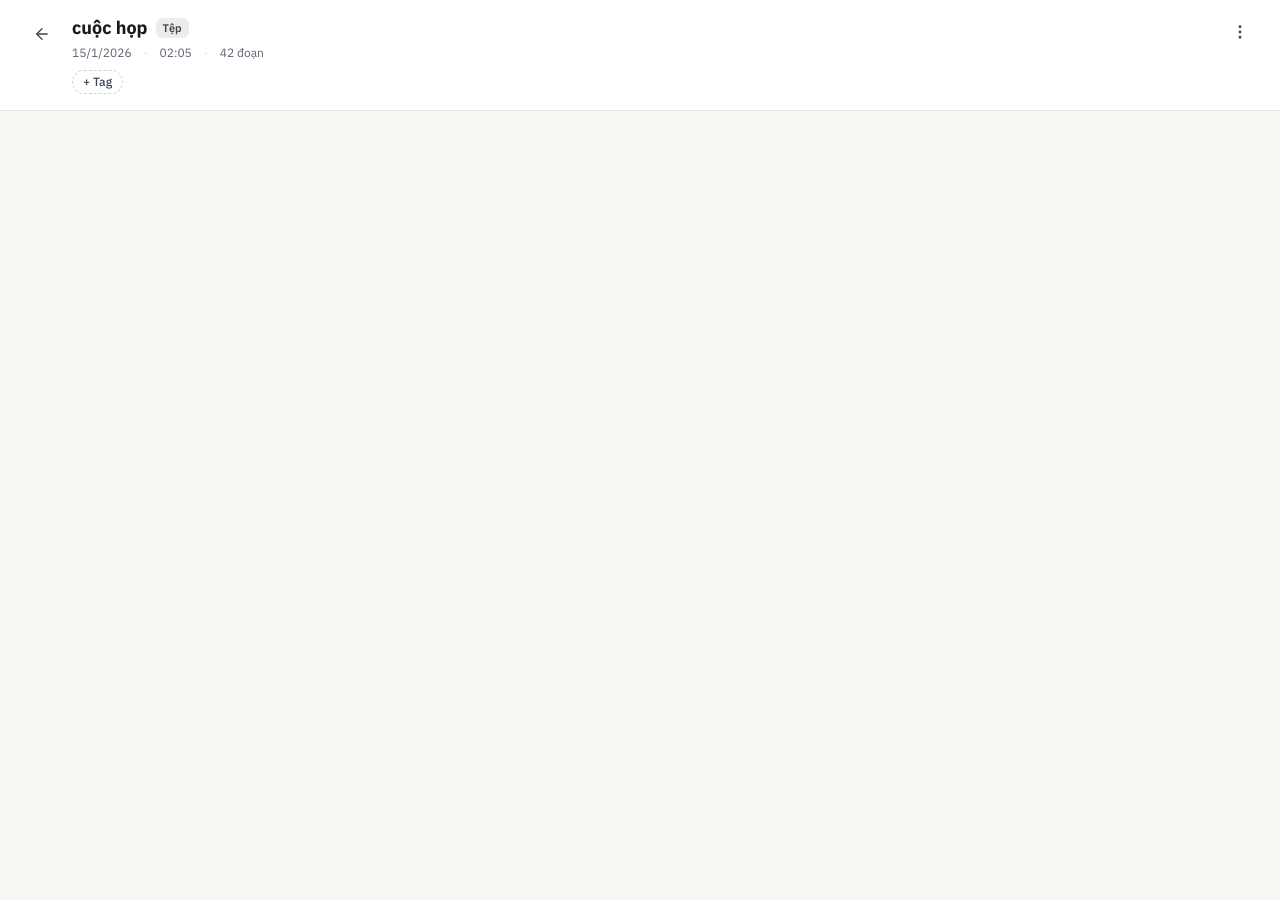
Test: SessionHeader › choosing Xoá from the menu opens the delete confirmation dialog
What coordinates should you click on to do the following:
click the button named "Thao tác khác"
I would click on:
 (1240, 32)
Its box is [1224,16,1256,48].
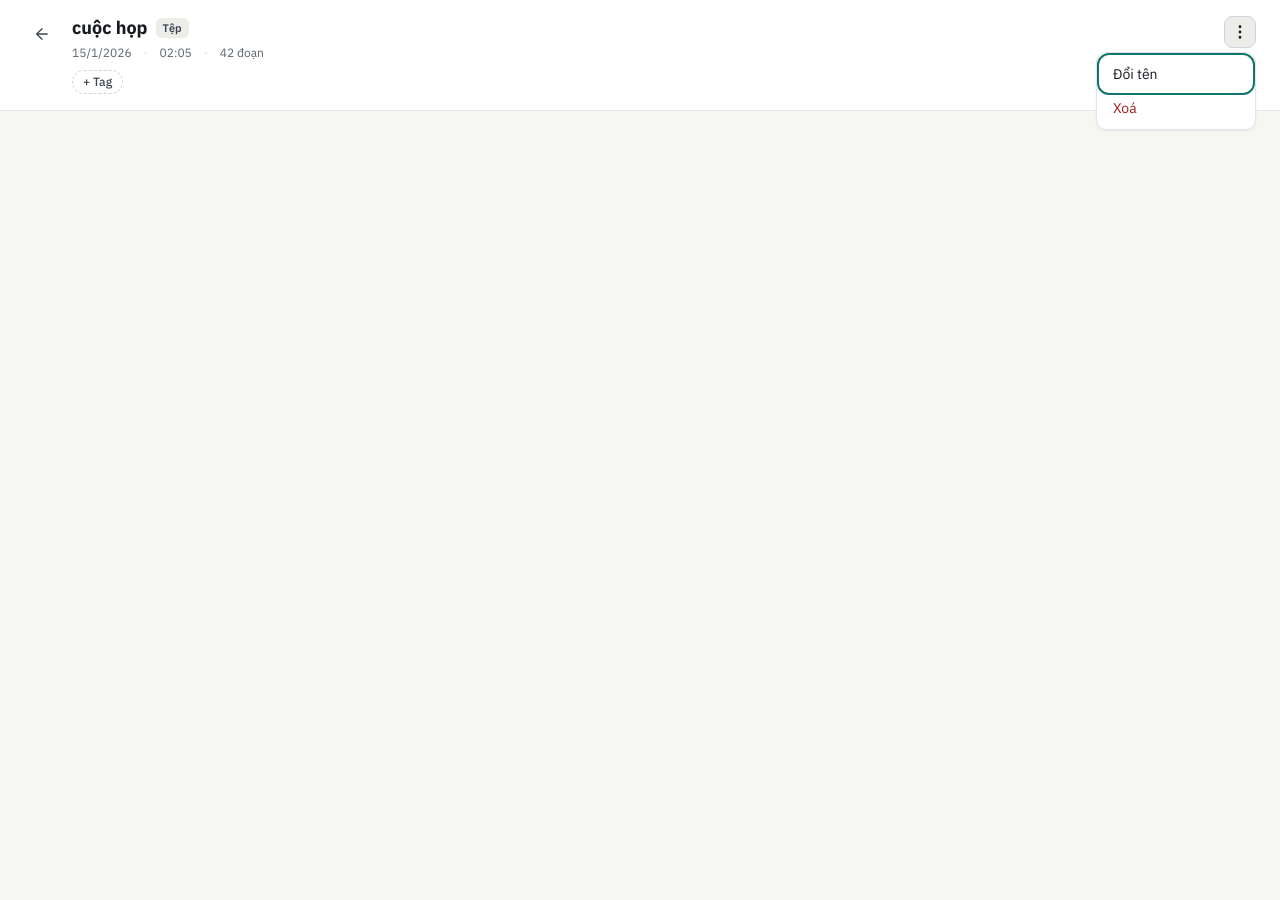
What coordinates should you click on to do the following:
click the menu item "Xoá"
I would click on:
 (1176, 108)
Its box is [1101,91,1251,125].
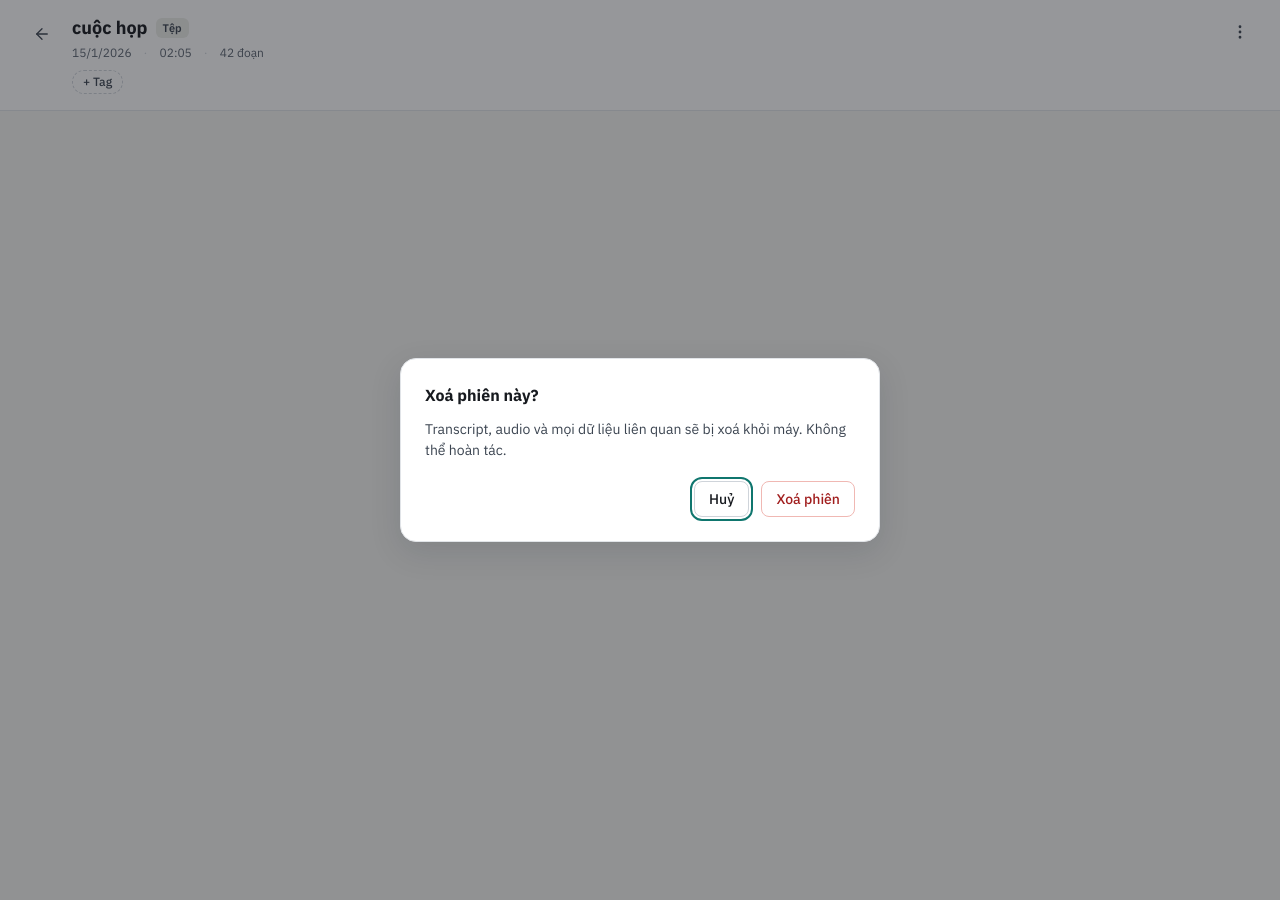
Expected: the dialog is shown, [400,358,880,542]
Expected: the heading "Xoá phiên này?" is shown, [425,385,538,405]
